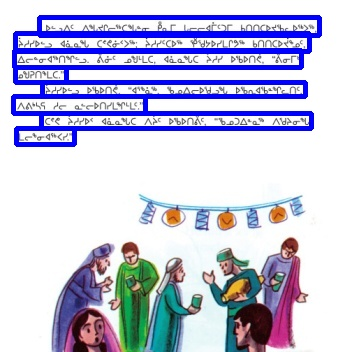inuktitut: (15, 33, 309, 51), (39, 17, 319, 35), (14, 50, 301, 67), (41, 113, 311, 128), (42, 82, 305, 96), (13, 96, 145, 113), (16, 128, 74, 144), (15, 67, 66, 82)
